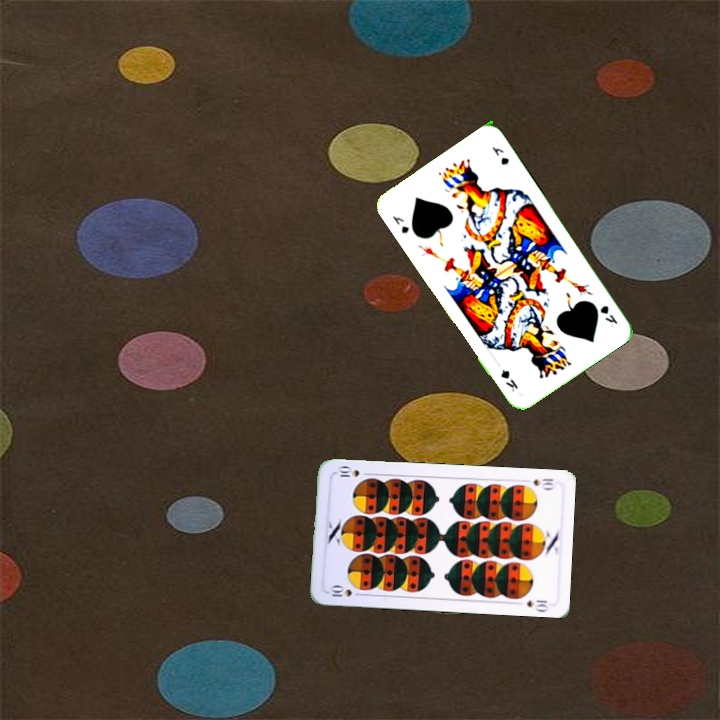GK: (596, 301, 620, 330), (388, 212, 412, 236)
S10: (325, 582, 365, 599), (529, 474, 557, 492)
